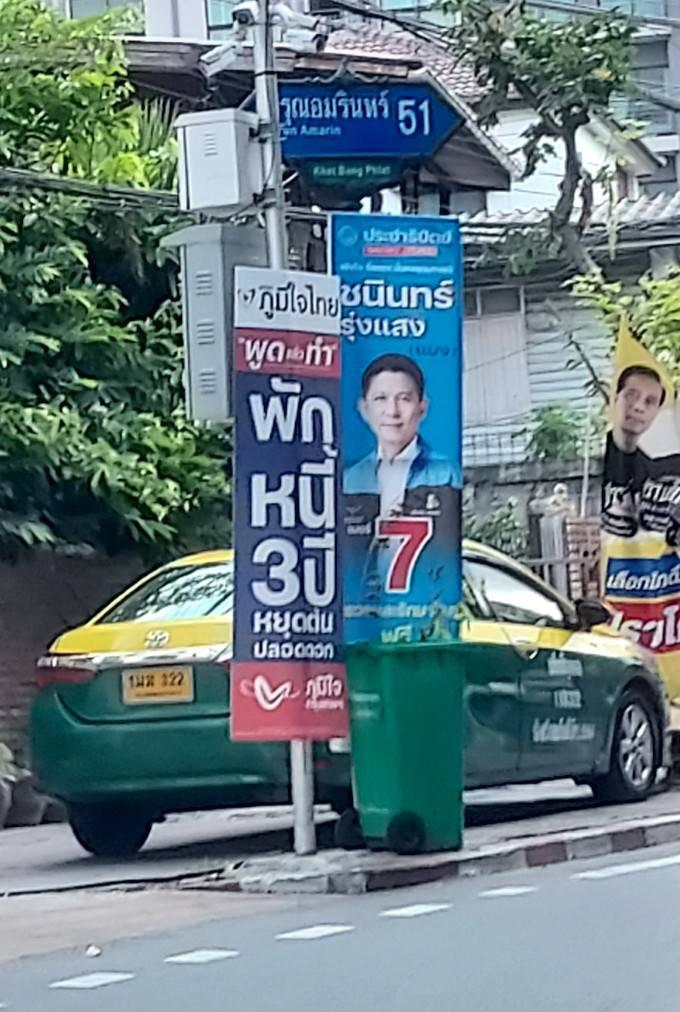Banner: (224, 247, 356, 755)
